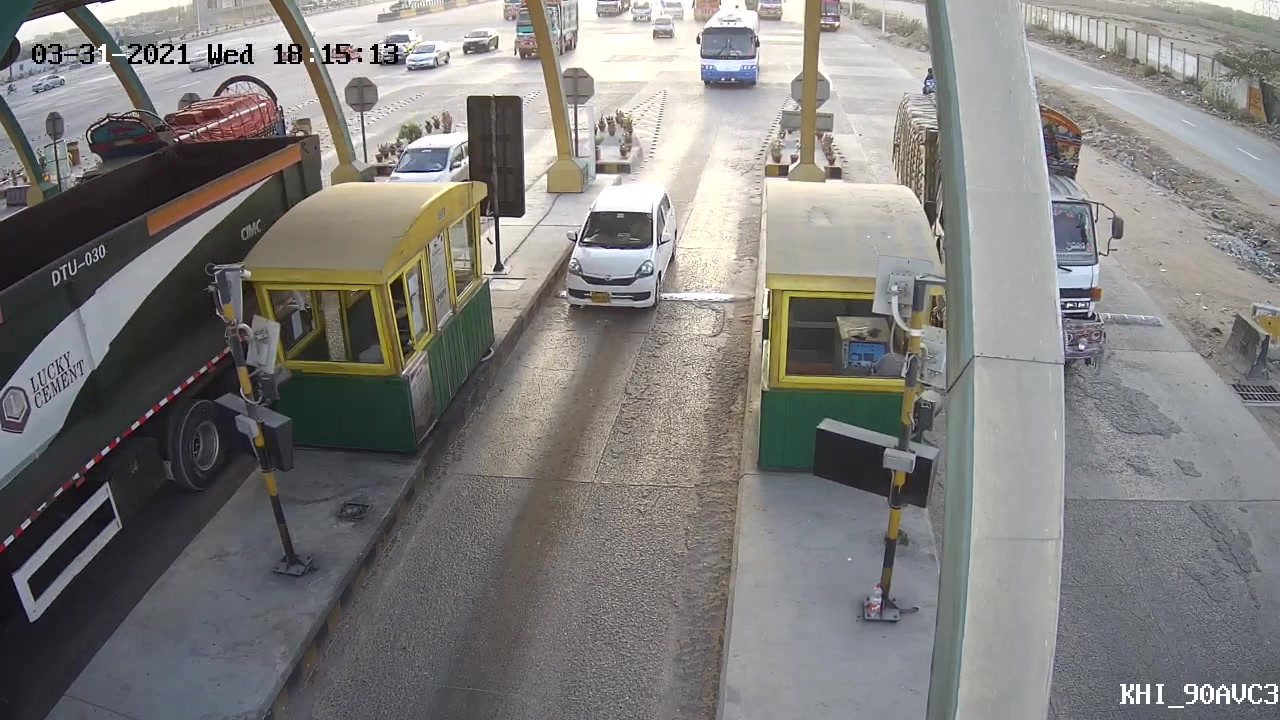F1: (551, 189, 689, 322)
